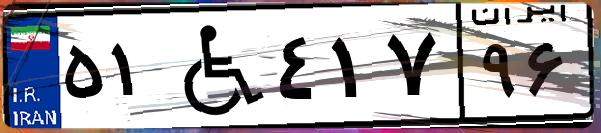1: (330, 28, 385, 110), (110, 28, 158, 98)
4: (270, 28, 330, 110)
5: (57, 26, 110, 100)
6: (525, 38, 570, 115)
7: (385, 28, 445, 110)
9: (475, 38, 525, 113)
ژ (معلولین و جانبازان): (158, 12, 270, 120)
